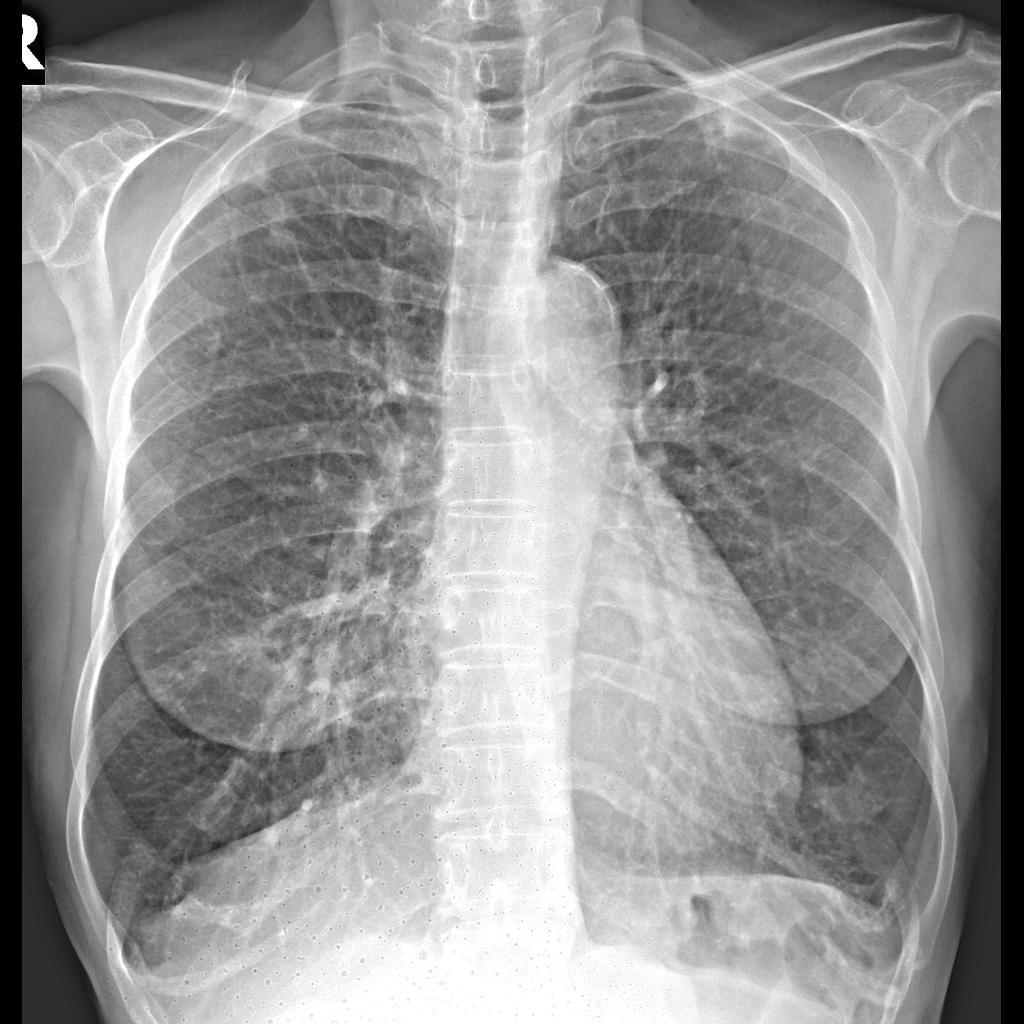Nodule: (261, 219, 308, 260)
